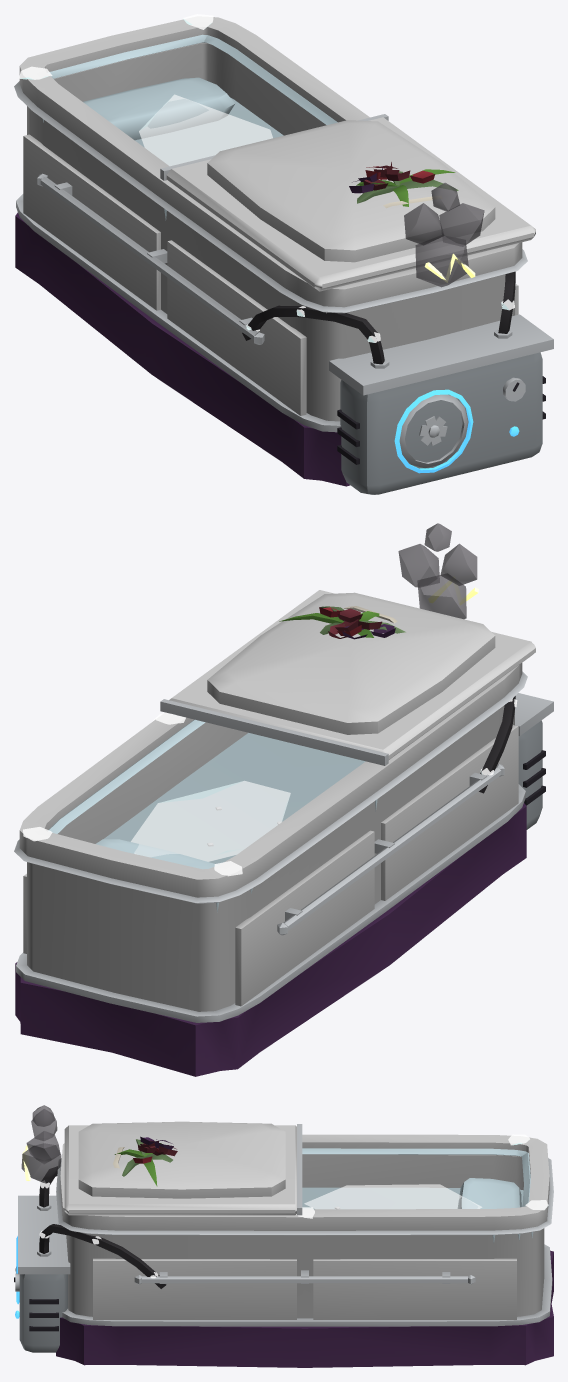
File: coffin_chillrest.glb
3 views of the same model, one above another, from view 1: azimuth 30°, elevation 25°; view 2: azimuth 150°, elevation 25°; view 3: azimuth 270°, elevation 25° (orthographic). The views are drawn at different scales.
Parts seen in each view (by area): view 1: coffin_chillrest, frost, broken, glow; view 2: coffin_chillrest, frost, broken; view 3: coffin_chillrest, frost, broken.
Boxes of the visible parts, <box> form: coffin_chillrest: <box>14,17,553,494</box>; frost: <box>19,14,514,342</box>; broken: <box>404,182,484,287</box>; glow: <box>394,389,519,473</box>; coffin_chillrest: <box>14,590,553,1076</box>; frost: <box>23,698,517,912</box>; broken: <box>398,523,478,619</box>; coffin_chillrest: <box>14,1121,553,1367</box>; frost: <box>39,1134,548,1278</box>; broken: <box>21,1105,61,1182</box>.
Size of the model in its own units: 0.8146 by 0.893 by 1.99.
